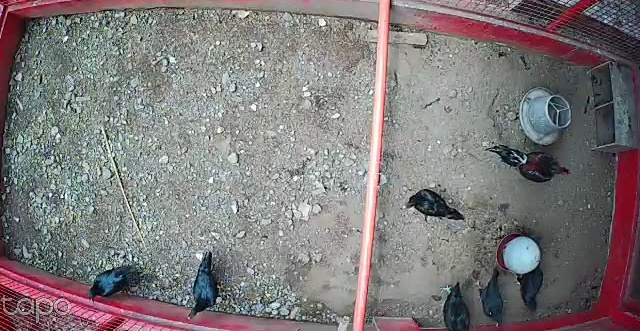Chicken: (186, 249, 223, 323), (88, 255, 141, 306), (472, 267, 510, 331), (404, 185, 467, 222), (438, 276, 479, 331), (514, 263, 545, 314)
Leg_Band_Green: (445, 286, 453, 296)
Rooster: (484, 141, 574, 184)
